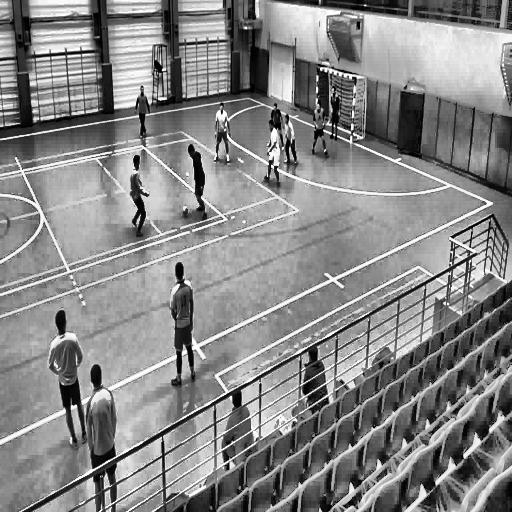ball: (182, 203, 190, 218)
player: (47, 308, 87, 452), (86, 361, 119, 512), (169, 260, 198, 389), (128, 154, 150, 239), (188, 144, 208, 224), (262, 120, 282, 190), (213, 102, 233, 164), (311, 102, 330, 160), (134, 84, 152, 142), (282, 115, 300, 168), (267, 102, 284, 150), (328, 83, 340, 143)
